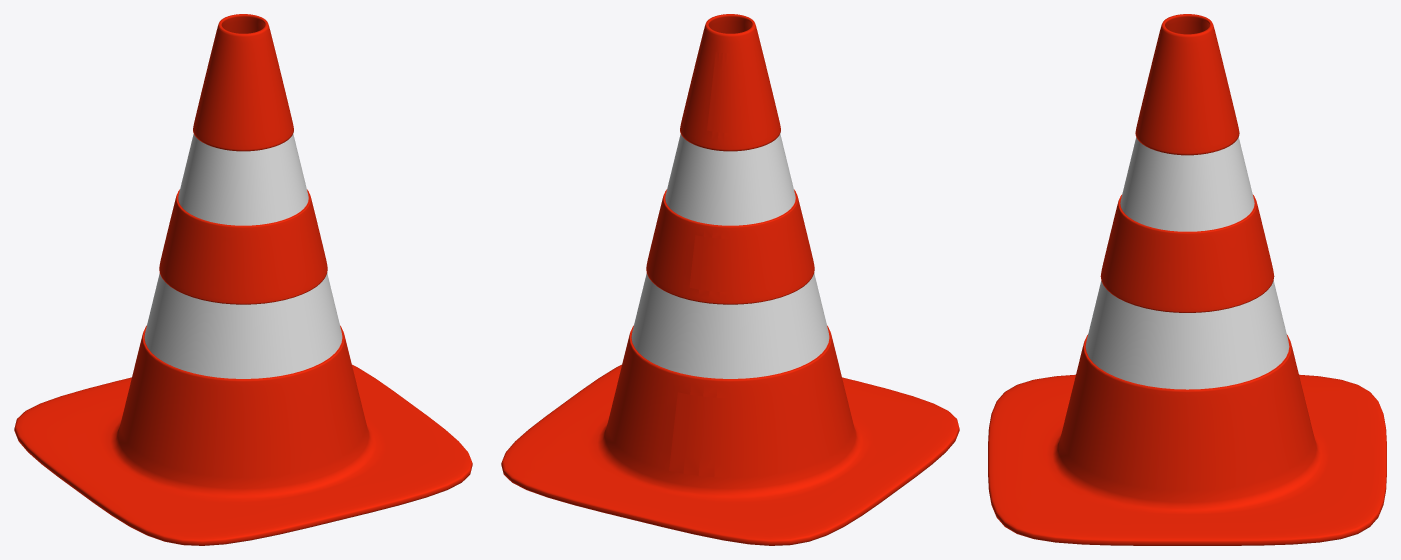
3 renders of one model, left to right at view 1: azimuth 30°, elevation 25°; view 2: azimuth 150°, elevation 25°; view 3: azimuth 270°, elevation 25°, orthographic. The views are drawn at different scales.
Visible parts, largest first — view 1: Traffic c0, Traffic c1; view 2: Traffic c0, Traffic c1; view 3: Traffic c0, Traffic c1.
Boxes of the visible parts, <box> form: Traffic c0: <box>14,14,472,545</box>; Traffic c1: <box>144,134,342,378</box>; Traffic c0: <box>501,14,959,545</box>; Traffic c1: <box>631,134,829,378</box>; Traffic c0: <box>988,14,1386,545</box>; Traffic c1: <box>1085,137,1289,389</box>.
Size of the model in its own units: 50.38 by 61.2 by 50.38.
